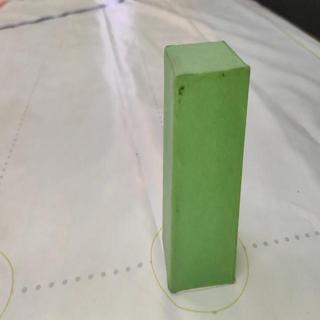greenbox: (163, 39, 252, 291)
